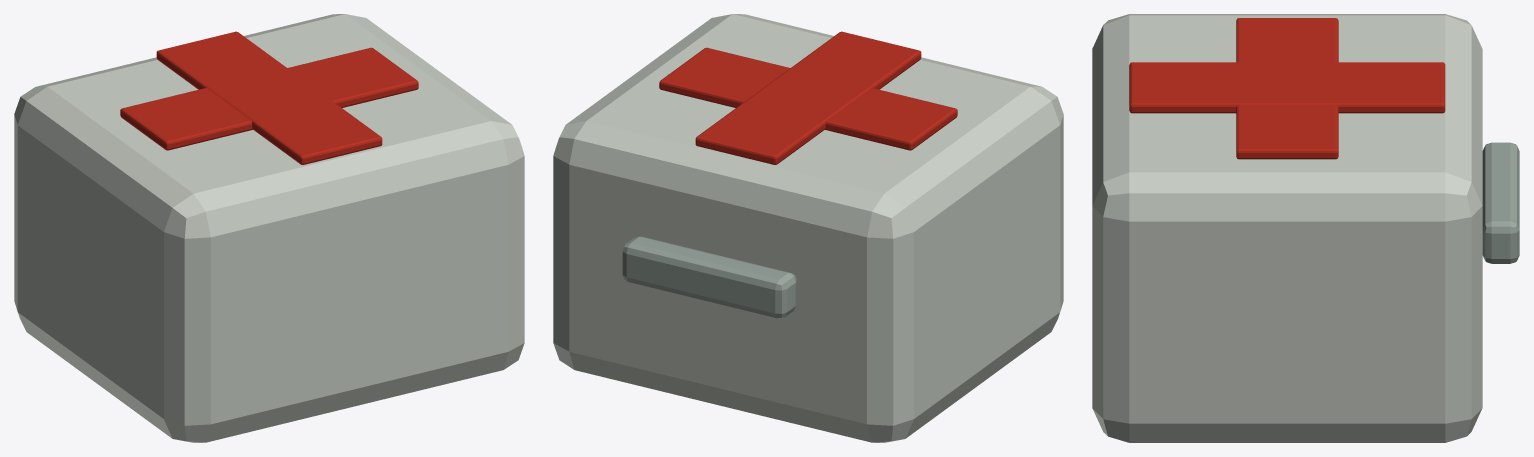
Rendered from battlecity-medkit-item.glb.
The picture shows the model from 3 angles, left to right: view 1: azimuth 30°, elevation 25°; view 2: azimuth 150°, elevation 25°; view 3: azimuth 270°, elevation 25°; orthographic projection. The views are drawn at different scales.
Parts seen in each view (by area): view 1: Identification paint, Red apron paint; view 2: Identification paint, Red apron paint, Brushed steel; view 3: Identification paint, Red apron paint, Brushed steel.
Boxes of the visible parts, x1,y1,x2,y2 form: Identification paint: (14, 14, 524, 442); Red apron paint: (120, 31, 418, 164); Identification paint: (553, 14, 1063, 442); Red apron paint: (659, 31, 957, 164); Brushed steel: (622, 236, 796, 318); Identification paint: (1092, 14, 1482, 442); Red apron paint: (1129, 18, 1445, 159); Brushed steel: (1482, 142, 1519, 263).
Size of the model in its own units: 0.48 by 0.333 by 0.46.
